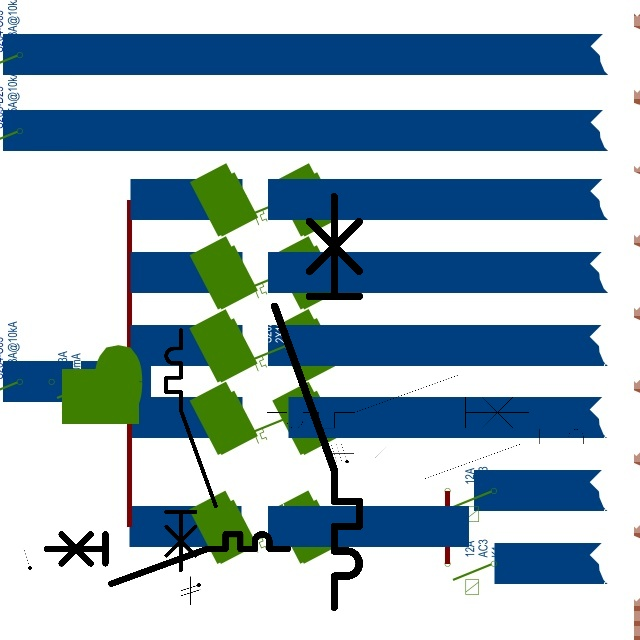interruptor_termomagnetico: (264, 186, 370, 618), (260, 368, 536, 435), (353, 423, 607, 485), (40, 528, 293, 590), (160, 324, 221, 576)
